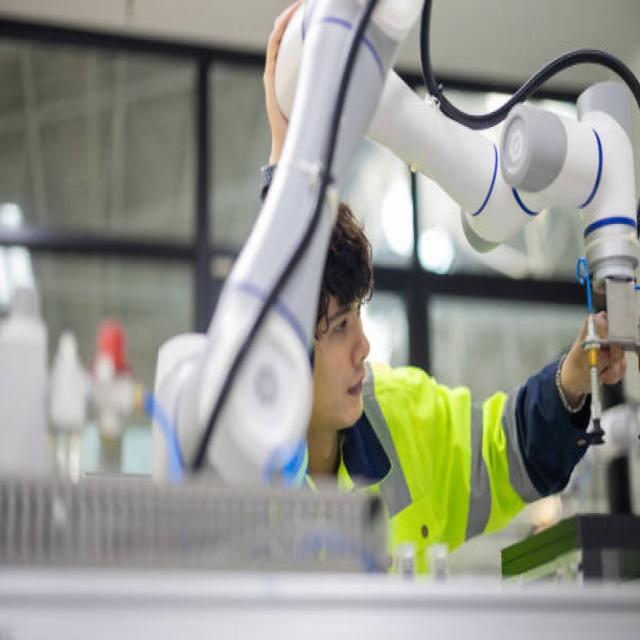Robotic-arm: (147, 0, 640, 494)
